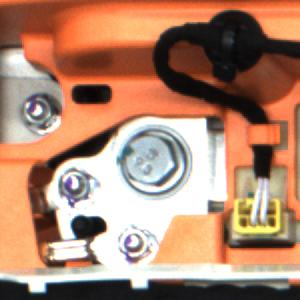nut_b: (116, 122, 196, 197)
screw_s: (117, 222, 158, 266), (58, 165, 96, 207), (18, 90, 56, 131)
